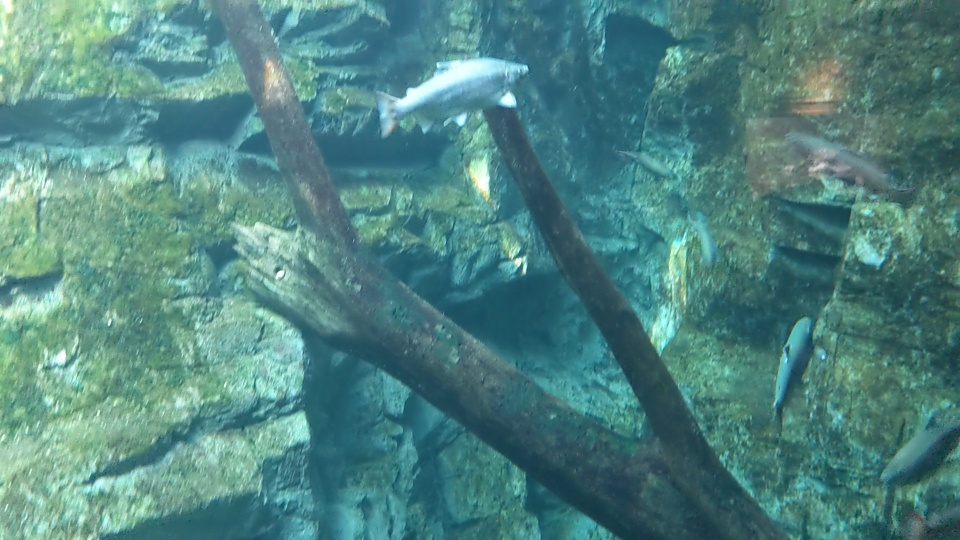Fish: (372, 50, 530, 135), (865, 390, 960, 508), (775, 123, 909, 202), (774, 312, 815, 435), (618, 147, 669, 181), (687, 214, 720, 266), (909, 502, 960, 526)
